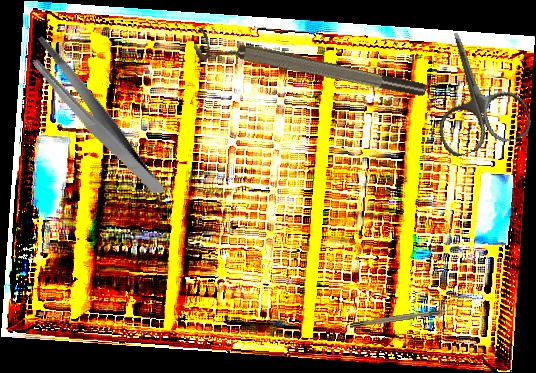Dressing Forceps: (24, 17, 165, 218)
Fixation Ring: (191, 27, 428, 111)
Hook Surgical: (349, 307, 457, 328)
Iris Scissors: (413, 19, 535, 160)
